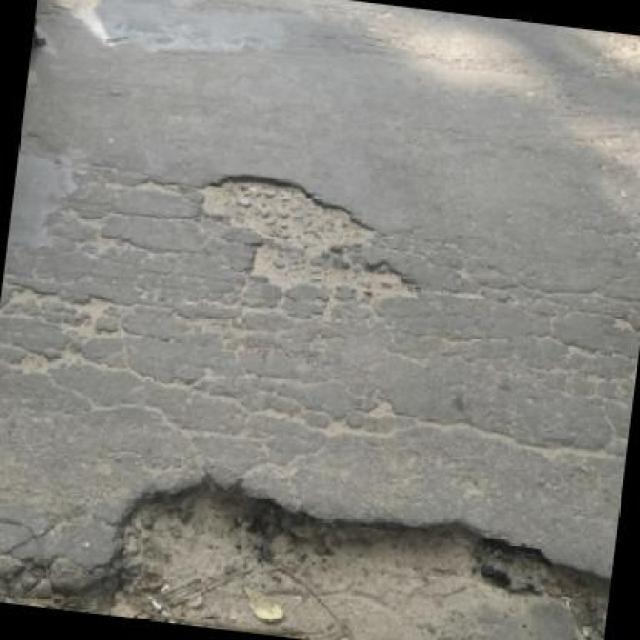pothole: (0, 440, 618, 640), (184, 165, 436, 307)
